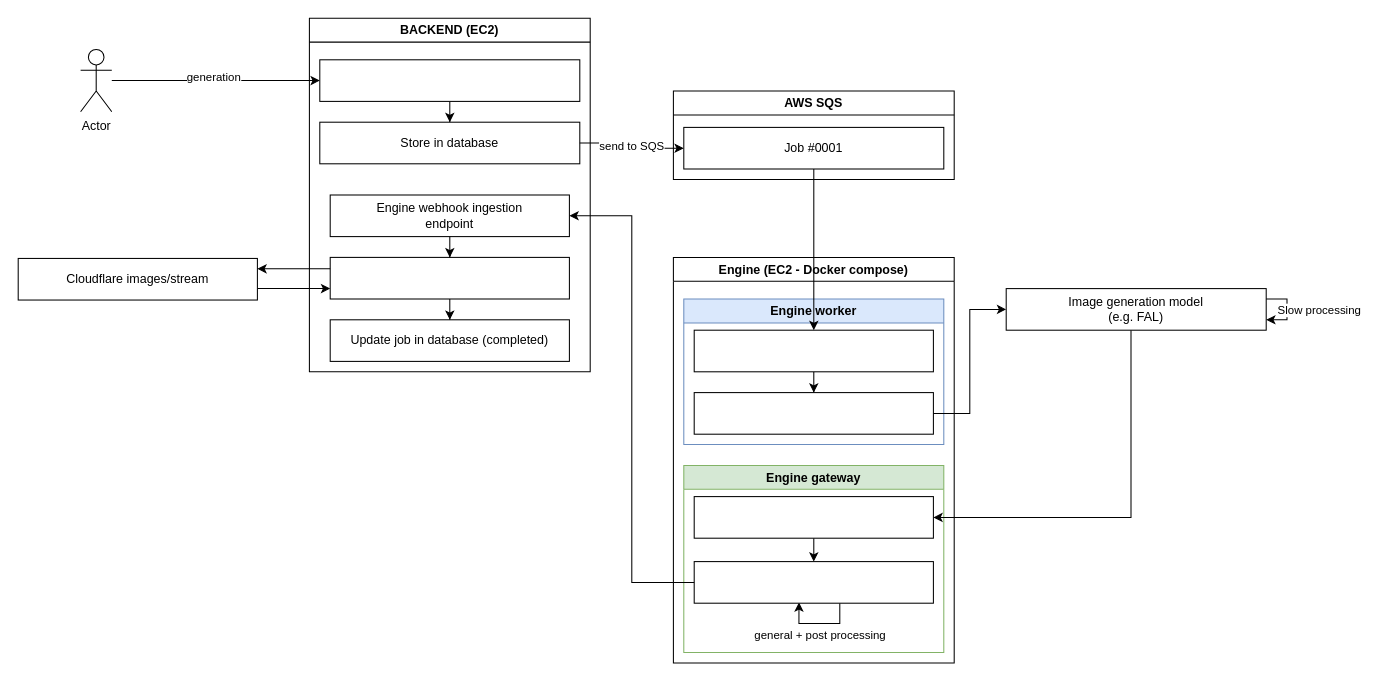
Some shapes in this 1378 by 681 pixel diagram are drawn without their labels. Each missing label, with the centre of its shape:
"Create a job data model (pending)" belongs at [449,80].
"Engine webhook processor" belongs at [449,277].
"Job Processor" belongs at [813,413].
"SQS ingestion" belongs at [813,350].
"webhook ingestion endpoint" belongs at [813,517].
"webhook processor" belongs at [813,582].
